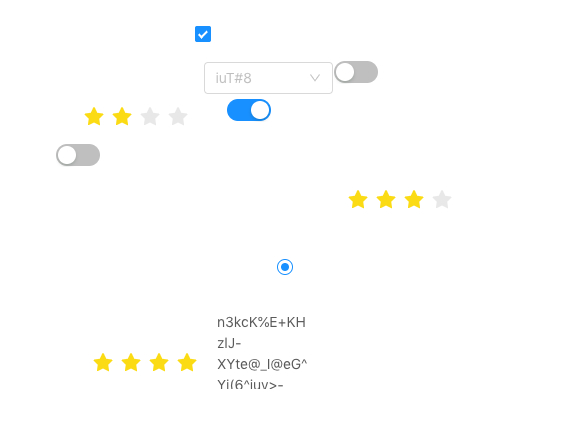Checkbox: (195, 23, 211, 44)
Radio: (277, 256, 293, 276)
Rate: (348, 183, 468, 215), (93, 346, 213, 378), (84, 100, 204, 132)
Select: (204, 62, 333, 94)
Switch: (56, 143, 100, 167), (227, 98, 271, 122), (334, 60, 378, 84)
Text: (217, 311, 313, 389)
